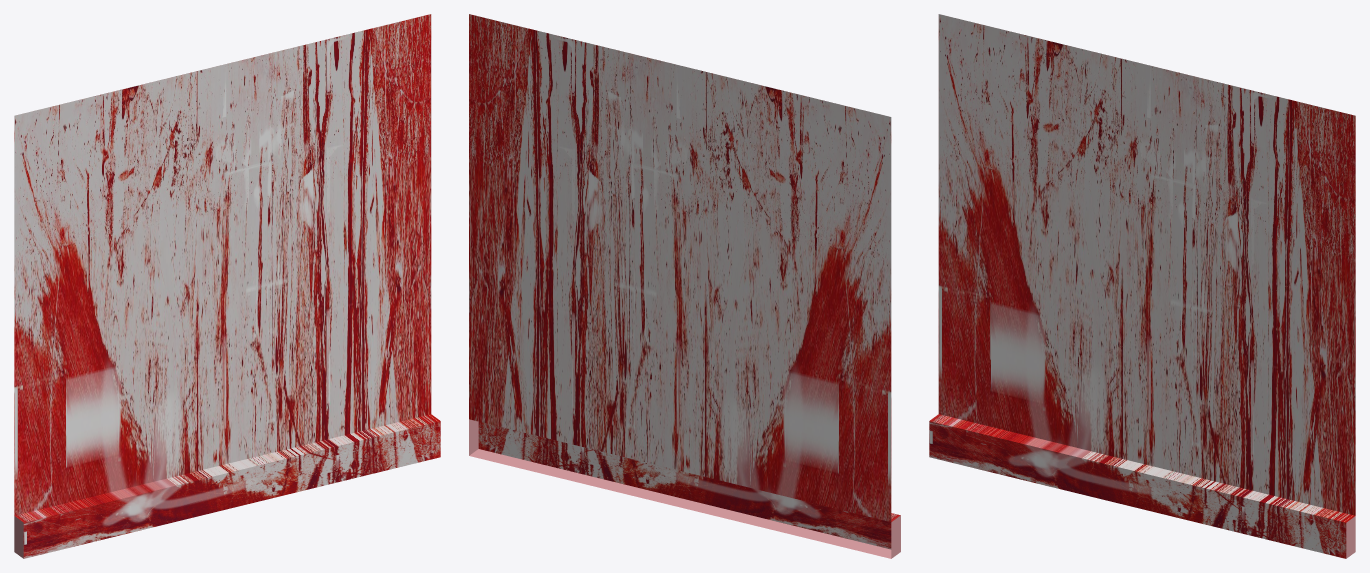
The model's file is Marco_23.fbx.
3 renders of one model, left to right at view 1: azimuth 30°, elevation 25°; view 2: azimuth 150°, elevation 25°; view 3: azimuth 330°, elevation 25°, orthographic.
Parts seen in each view (by area): view 1: Plane.034; view 2: Plane.034; view 3: Plane.034.
Part boxes in pixels (box(x1,y1,x2,y2)): Plane.034: box(14, 14, 440, 558); Plane.034: box(469, 14, 900, 558); Plane.034: box(929, 14, 1355, 558).
Size of the model in its own units: 600 by 600 by 23.63.
